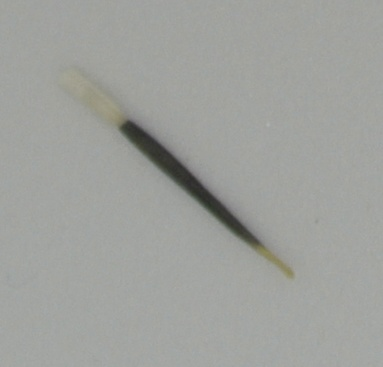เมล็ดดีเรียวยาว: (62, 63, 299, 284)
